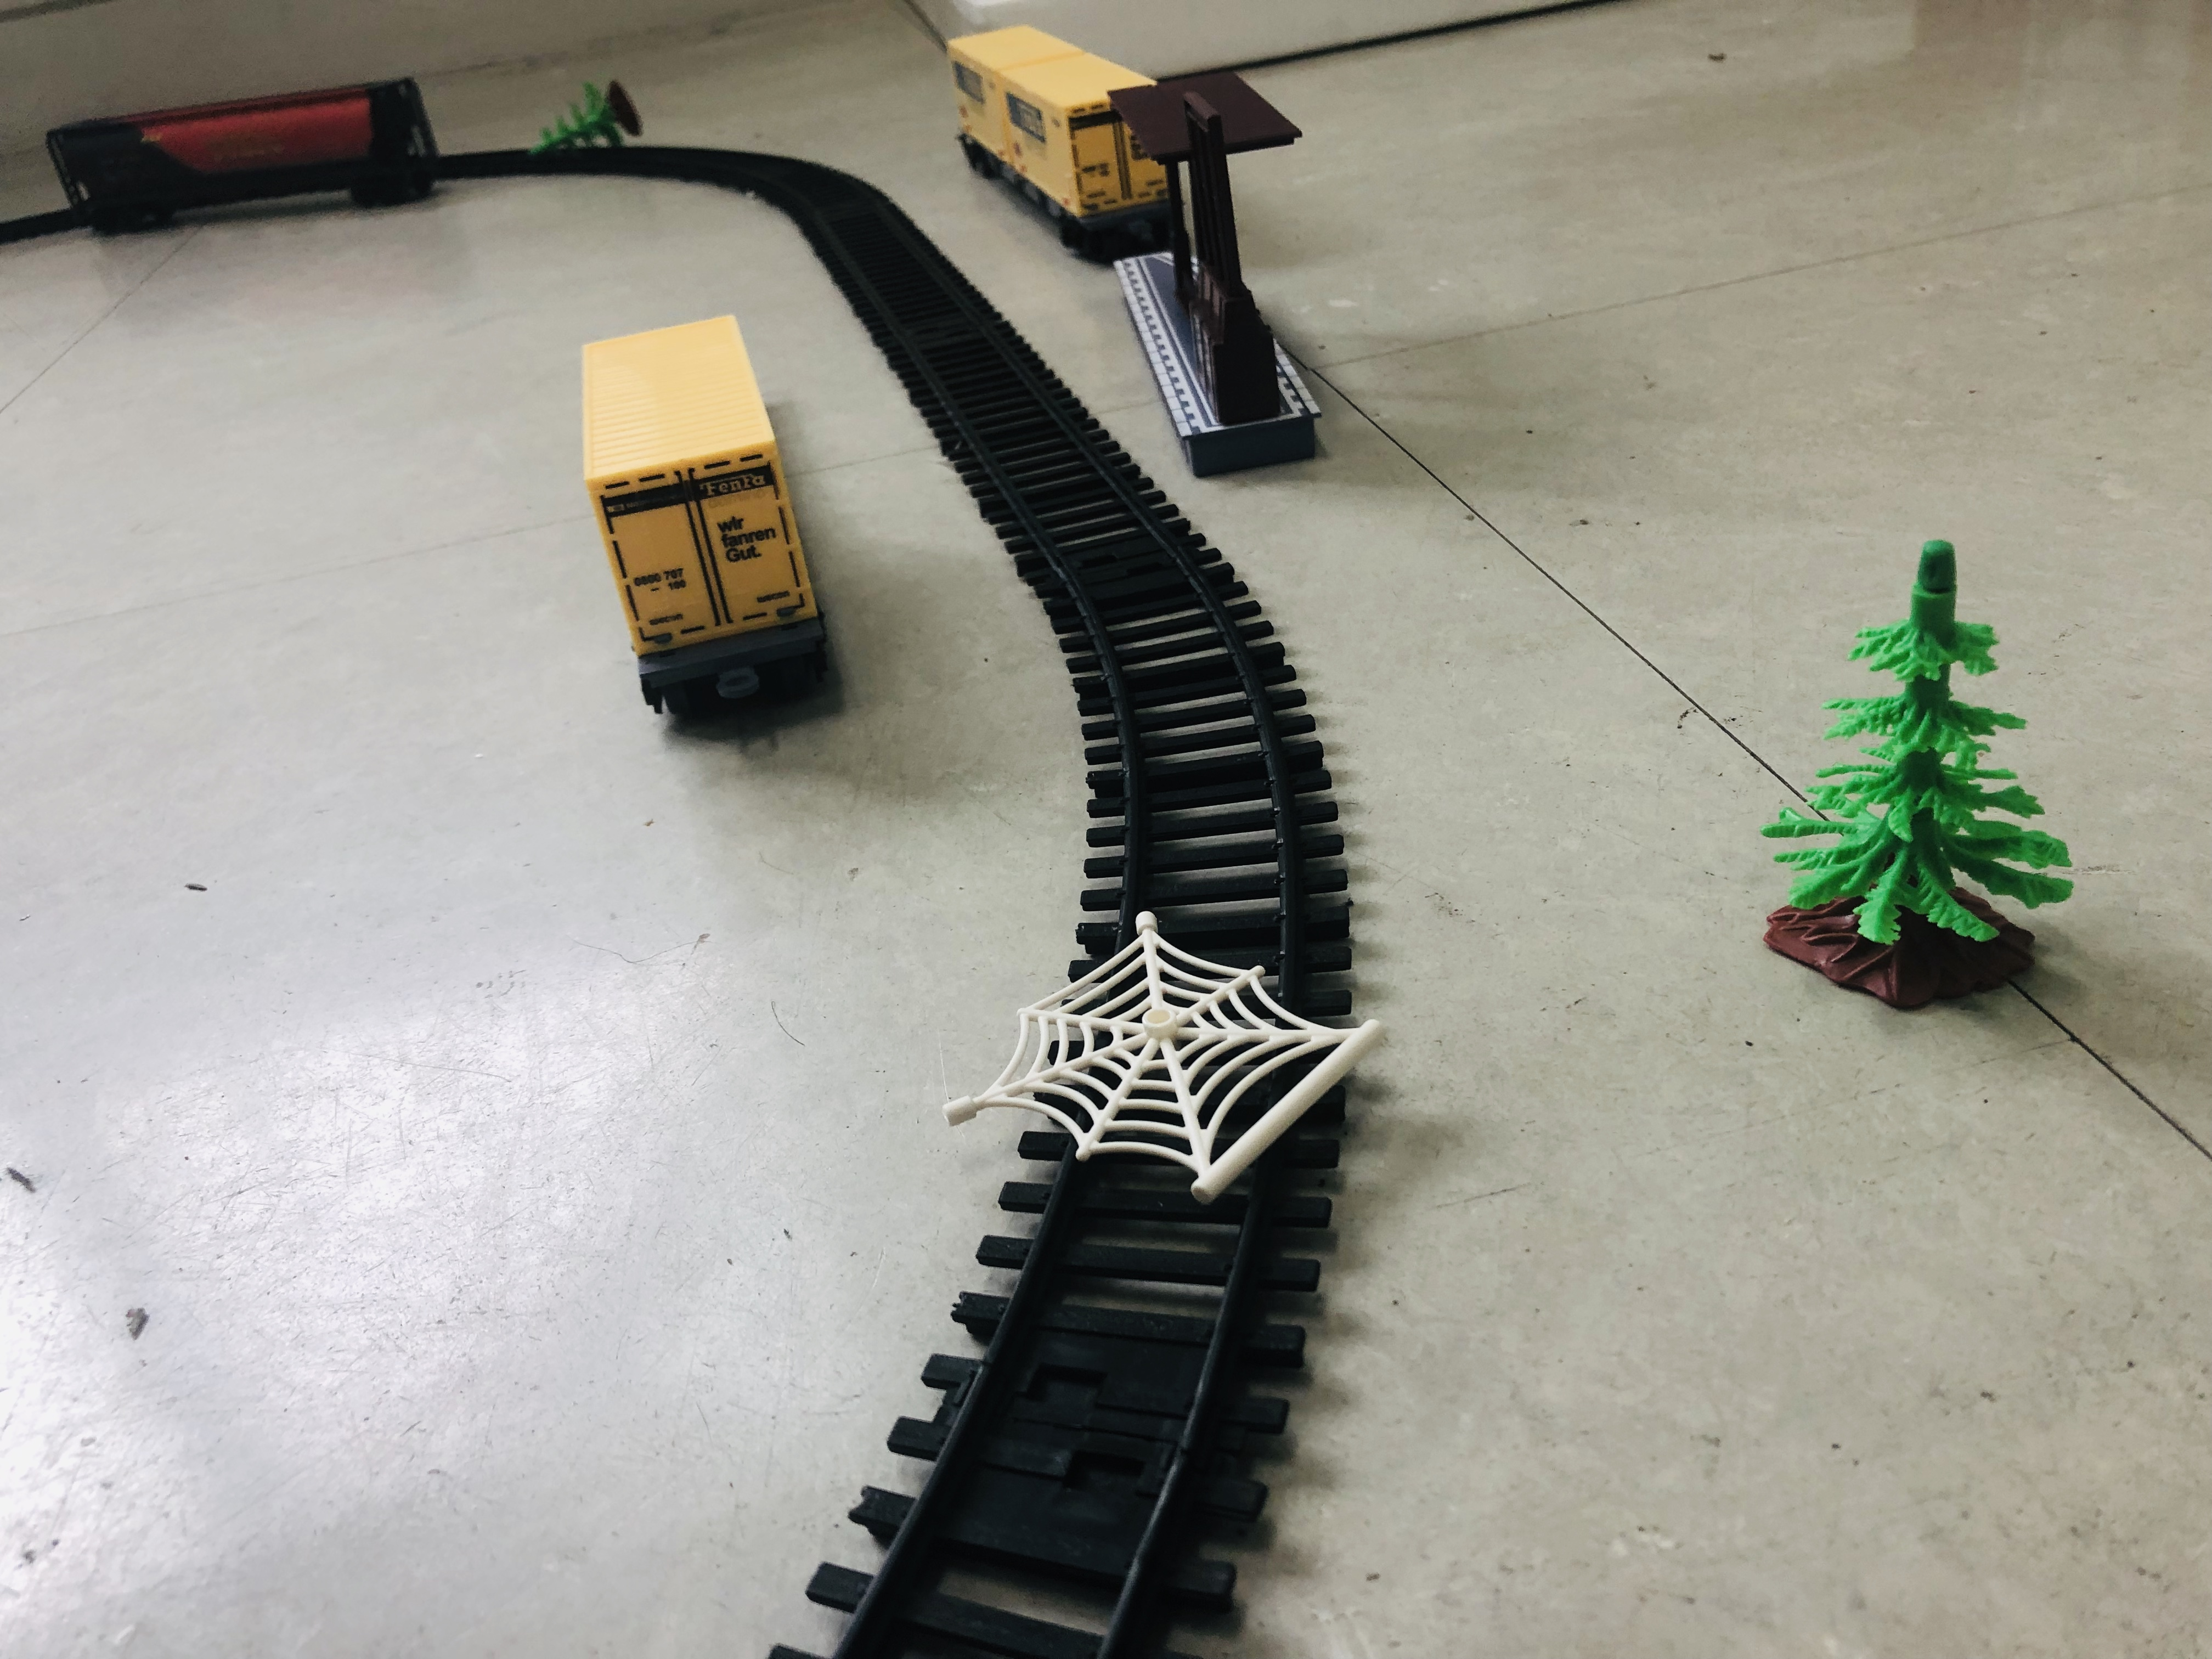tree: (1703, 509, 2118, 1046), (508, 64, 673, 162)
web: (899, 887, 1398, 1229)
